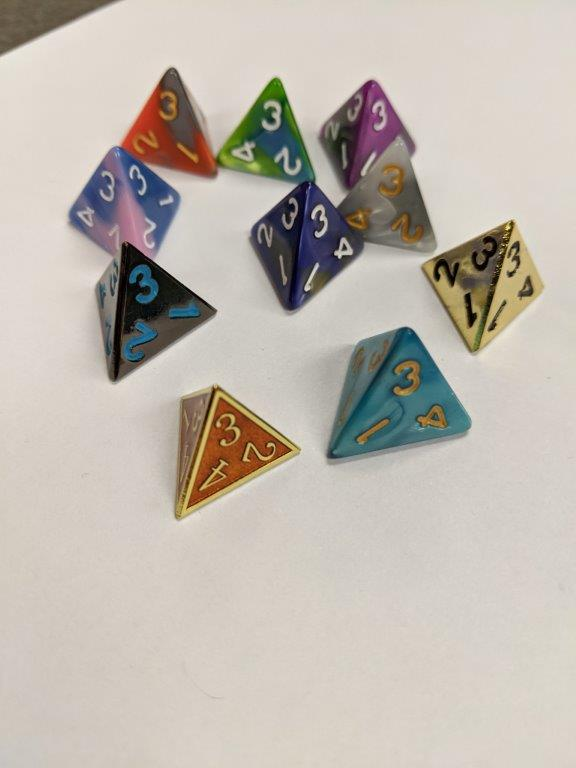d4-3: (319, 322, 471, 462), (419, 217, 546, 360), (174, 382, 301, 524), (91, 239, 218, 379), (238, 177, 362, 320), (66, 144, 182, 259), (334, 135, 438, 254), (215, 71, 322, 185), (120, 66, 222, 182), (318, 77, 419, 188)
